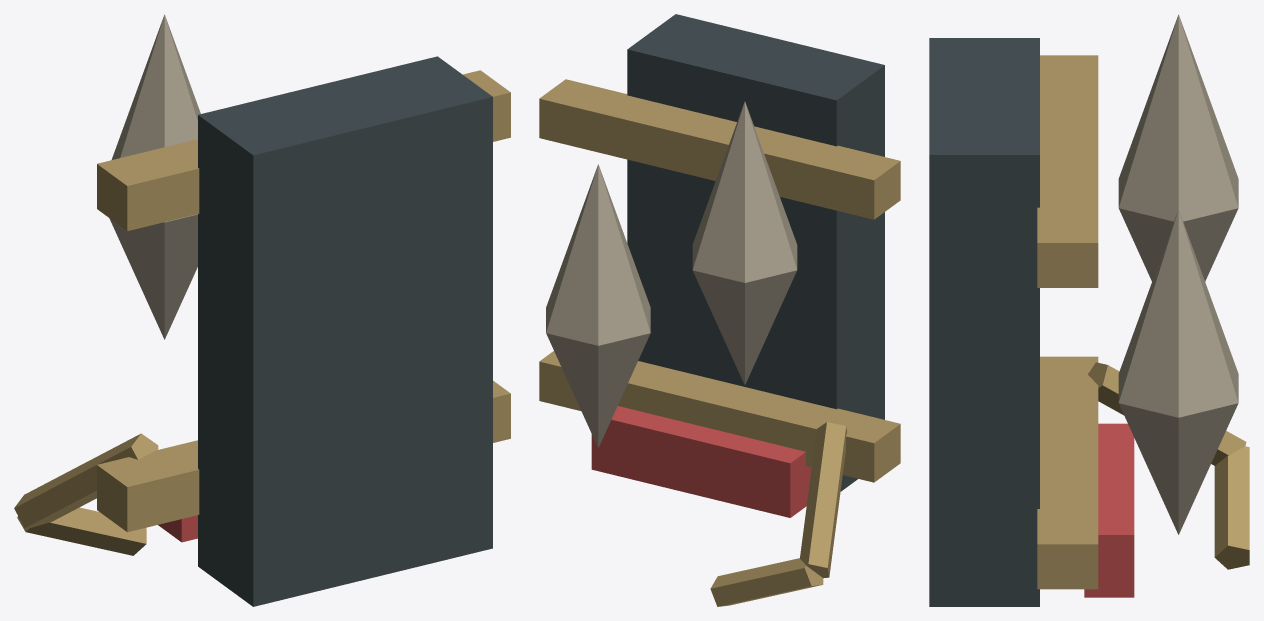
Rendered from Arsenal_SaltCrystalEdge.fbx.
3 views of the same model, side by side, from view 1: azimuth 30°, elevation 25°; view 2: azimuth 150°, elevation 25°; view 3: azimuth 270°, elevation 25° (orthographic). The views are drawn at different scales.
Visible parts, largest first — view 1: Arsenal_SaltCrystalEdge; view 2: Arsenal_SaltCrystalEdge; view 3: Arsenal_SaltCrystalEdge.
Boxes of the visible parts, x1,y1,x2,y2 form: Arsenal_SaltCrystalEdge: (14,14,510,606); Arsenal_SaltCrystalEdge: (539,14,900,606); Arsenal_SaltCrystalEdge: (929,14,1249,606).
Bounding box in the file's own units: 0.1662 × 0.2226 × 0.1157.
